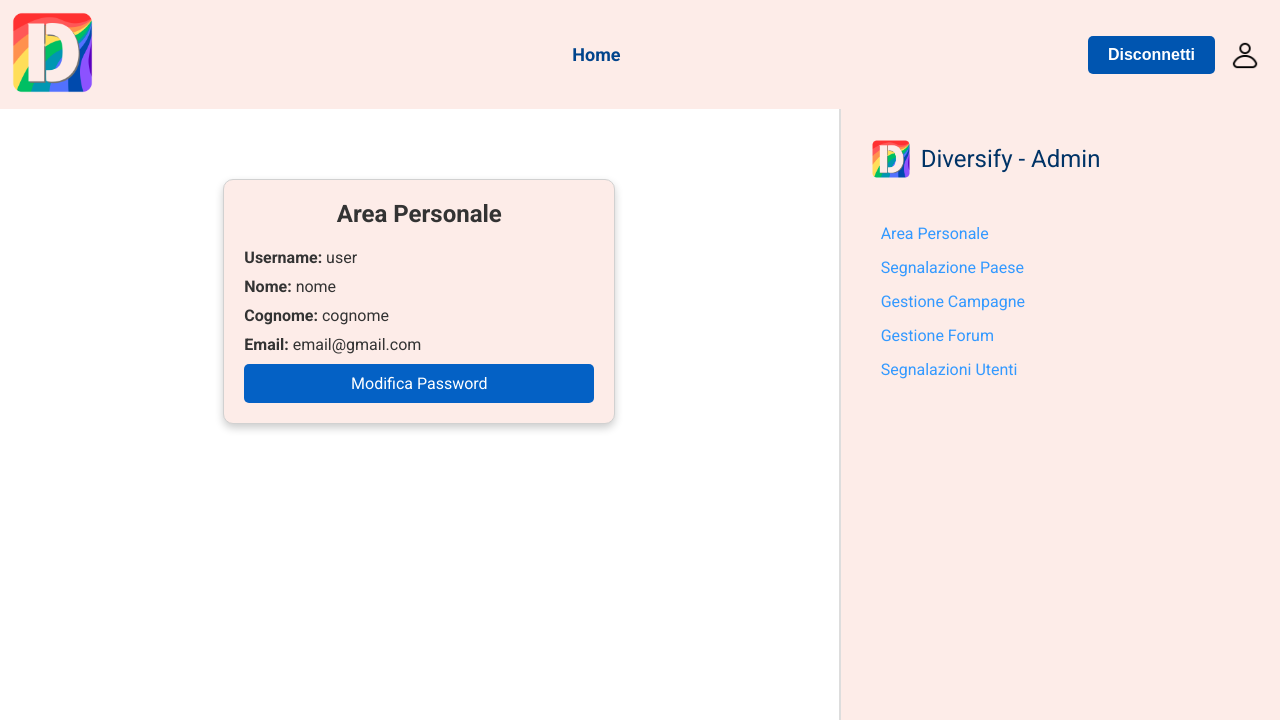
Test: Segnalazione Paese › Dovrebbe mostrare "Malta" quando si digita "ma" nel campo di ricerca
The width and height of the screenshot is (1280, 720).
Click the link "Segnalazione Paese". click: (953, 268)
box: [881,258,1024,277]
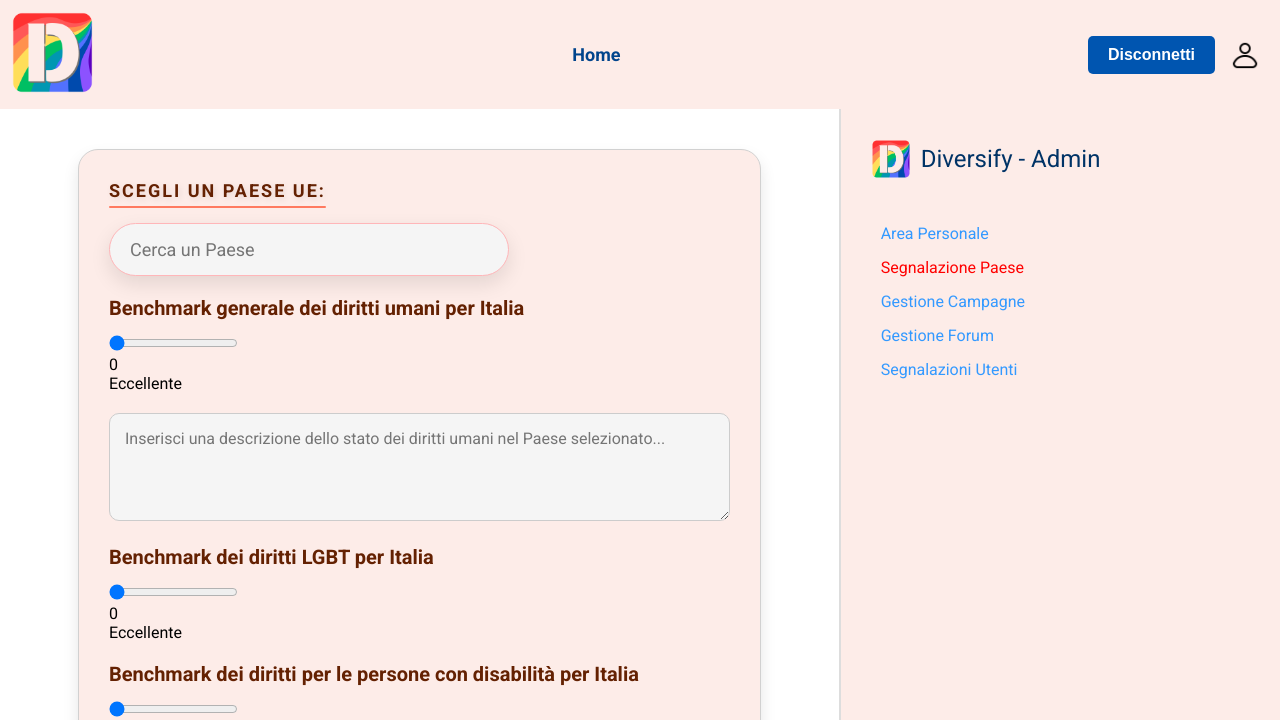
Type "ma" into the field with id "country". click: (309, 250)
box: [109,223,509,276]
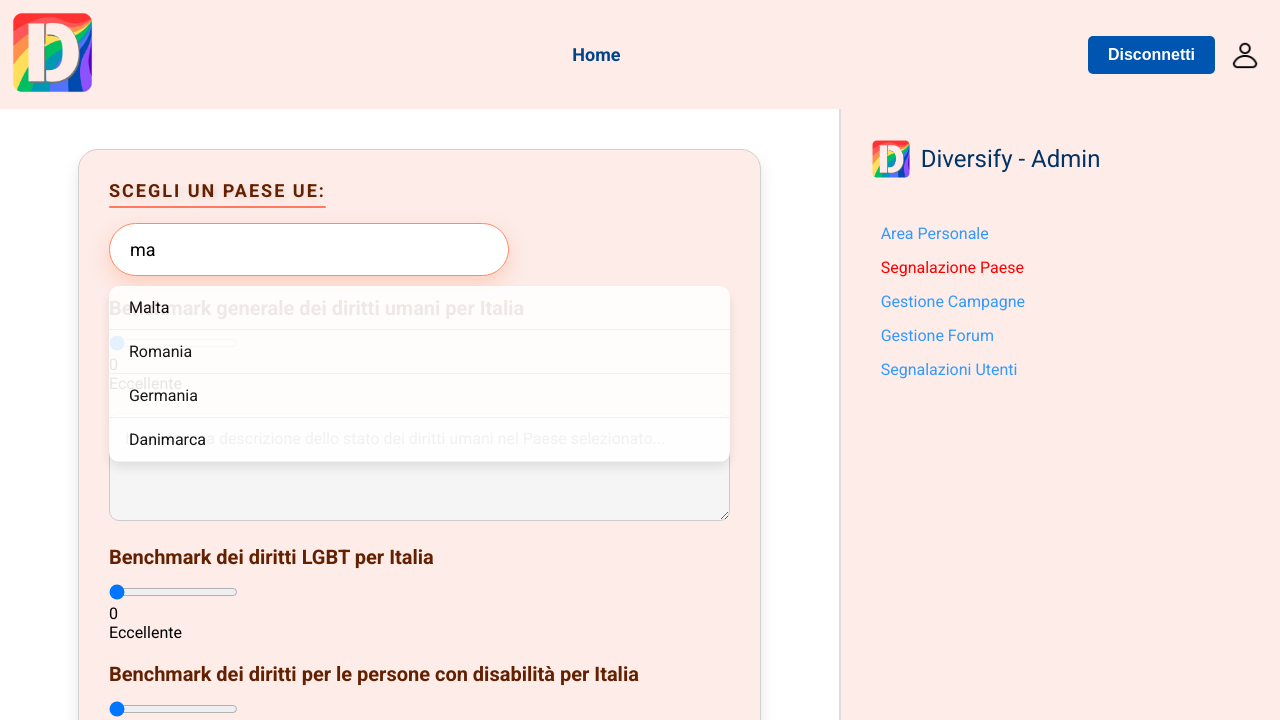
Expected: the list "Malta Romania Germania Danimarca" is shown, [109,286,730,462]
Expected: the list item "Malta" is shown, [109,286,730,330]
